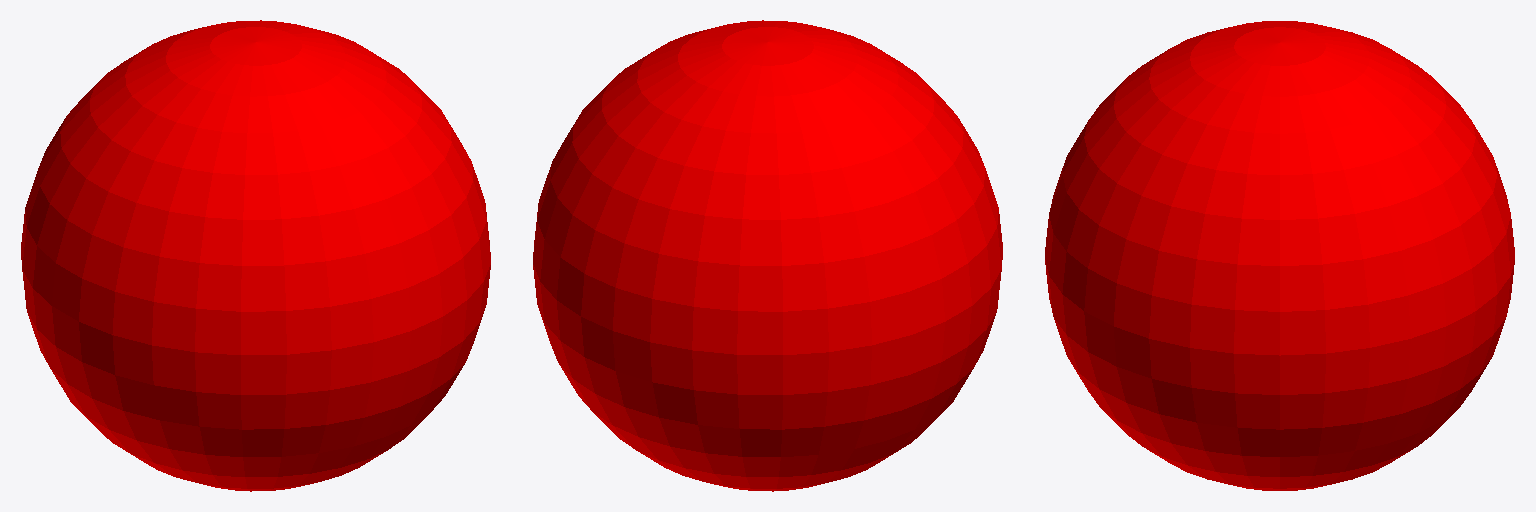
The robot description file, URDF, robot "iiwa14":
<?xml version="1.0" ?>
<!-- =================================================================================== -->
<!-- |    This document was autogenerated by xacro from iiwa14.urdf.xacro              | -->
<!-- |    EDITING THIS FILE BY HAND IS NOT RECOMMENDED                                 | -->
<!-- =================================================================================== -->
<!--|
    Copyright (C) 2019-2022 [author] and Systems Laboratory, EPFL, Switzerland
    Authors:  [author] (maintainer)
              [author]
              [author]
    email:    [email redacted]
              [email redacted]
              [email redacted]
    Other contributors:
              [author] ([email redacted])
              [author] ([email redacted])
    website:  lasa.epfl.ch

    This file is part of iiwa_ros.

    iiwa_ros is free software: you can redistribute it and/or modify
    it under the terms of the GNU General Public License as published by
    the Free Software Foundation, either version 3 of the License, or
    (at your option) any later version.

    iiwa_ros is distributed in the hope that it will be useful,
    but WITHOUT ANY WARRANTY; without even the implied warranty of
    MERCHANTABILITY or FITNESS FOR A PARTICULAR PURPOSE.  See the
    GNU General Public License for more details.

|-->
<robot name="iiwa14">
  <material name="Black">
    <color rgba="0.0 0.0 0.0 1.0"/>
  </material>
  <material name="Blue">
    <color rgba="0.0 0.0 0.8 1.0"/>
  </material>
  <material name="Green">
    <color rgba="0.0 0.8 0.0 1.0"/>
  </material>
  <material name="Grey">
    <color rgba="0.4 0.4 0.4 1.0"/>
  </material>
  <material name="Orange">
    <color rgba="1.0 0.4235294117647059 0.0392156862745098 1.0"/>
  </material>
  <material name="Brown">
    <color rgba="0.8705882352941177 0.8117647058823529 0.7647058823529411 1.0"/>
  </material>
  <material name="Red">
    <color rgba="0.8 0.0 0.0 1.0"/>
  </material>
  <material name="White">
    <color rgba="1.0 1.0 1.0 1.0"/>
  </material>
  <!-- Fix to world just for testing -->
  <link name="world"/>
  <!--joint between {parent} and link_0-->
  <joint name="world_iiwa_joint" type="fixed">
    <origin rpy="0 0 0" xyz="0 0 0"/>
    <parent link="world"/>
    <child link="iiwa_link_0"/>
  </joint>
  <link name="iiwa_link_0">
    <inertial>
      <origin rpy="0 0 0" xyz="-0.1 0 0.07"/>
      <mass value="5"/>
      <inertia ixx="0.05" ixy="0" ixz="0" iyy="0.06" iyz="0" izz="0.03"/>
    </inertial>
    <visual>
      <origin rpy="0 0 0" xyz="0 0 0"/>
      <geometry>
        <mesh filename="./meshes/iiwa14/link_0.stl"/>
      </geometry>
      <material name="Grey"/>
    </visual>
  </link>
  <!-- joint between link_0 and link_1 -->
  <joint name="joint_a1" type="revolute">
    <parent link="iiwa_link_0"/>
    <child link="iiwa_link_1"/>
    <origin rpy="0 0 0" xyz="0 0 0.1575"/>
    <axis xyz="0 0 1"/>
    <limit effort="320" lower="-2.9670597283903604" upper="2.9670597283903604" velocity="1.4835298641951802"/>
    <safety_controller k_position="100" k_velocity="10" soft_lower_limit="-2.8187067419708423" soft_upper_limit="2.8187067419708423"/>
    <dynamics damping="0.5"/>
  </joint>
  <link name="iiwa_link_1">
    <inertial>
      <origin rpy="0 0 0" xyz="0 -0.03 0.12"/>
      <mass value="4"/>
      <inertia ixx="0.1" ixy="0" ixz="0" iyy="0.09" iyz="0" izz="0.02"/>
    </inertial>
    <visual>
      <origin rpy="0 0 0" xyz="0 0 0"/>
      <geometry>
        <mesh filename="./meshes/iiwa14/link_1.stl"/>
      </geometry>
      <material name="Orange"/>
    </visual>
  </link>
  <!-- joint between link_1 and link_2 -->
  <joint name="joint_a2" type="revolute">
    <parent link="iiwa_link_1"/>
    <child link="iiwa_link_2"/>
    <origin rpy="1.5707963267948966   0 3.141592653589793" xyz="0 0 0.2025"/>
    <axis xyz="0 0 1"/>
    <limit effort="320" lower="-2.0943951023931953" upper="2.0943951023931953" velocity="1.4835298641951802"/>
    <safety_controller k_position="100" k_velocity="10" soft_lower_limit="-1.9896753472735356" soft_upper_limit="1.9896753472735356"/>
    <dynamics damping="0.5"/>
  </joint>
  <link name="iiwa_link_2">
    <inertial>
      <origin rpy="0 0 0" xyz="0.0003 0.059 0.042"/>
      <mass value="4"/>
      <inertia ixx="0.05" ixy="0" ixz="0" iyy="0.018" iyz="0" izz="0.044"/>
    </inertial>
    <visual>
      <origin rpy="0 0 0" xyz="0 0 0"/>
      <geometry>
        <mesh filename="./meshes/iiwa14/link_2.stl"/>
      </geometry>
      <material name="Orange"/>
    </visual>
  </link>
  <!-- joint between link_2 and link_3 -->
  <joint name="joint_a3" type="revolute">
    <parent link="iiwa_link_2"/>
    <child link="iiwa_link_3"/>
    <origin rpy="1.5707963267948966 0 3.141592653589793" xyz="0 0.2045 0"/>
    <axis xyz="0 0 1"/>
    <limit effort="176" lower="-2.9670597283903604" upper="2.9670597283903604" velocity="1.7453292519943295"/>
    <safety_controller k_position="100" k_velocity="10" soft_lower_limit="-2.8187067419708423" soft_upper_limit="2.8187067419708423"/>
    <dynamics damping="0.5"/>
  </joint>
  <link name="iiwa_link_3">
    <inertial>
      <origin rpy="0 0 0" xyz="0 0.03 0.13"/>
      <mass value="3"/>
      <inertia ixx="0.08" ixy="0" ixz="0" iyy="0.075" iyz="0" izz="0.01"/>
    </inertial>
    <visual>
      <origin rpy="0 0 0" xyz="0 0 0"/>
      <geometry>
        <mesh filename="./meshes/iiwa14/link_3.stl"/>
      </geometry>
      <material name="Orange"/>
    </visual>
  </link>
  <!-- joint between link_3 and link_4 -->
  <joint name="joint_a4" type="revolute">
    <parent link="iiwa_link_3"/>
    <child link="iiwa_link_4"/>
    <origin rpy="1.5707963267948966 0 0" xyz="0 0 0.2155"/>
    <axis xyz="0 0 1"/>
    <limit effort="176" lower="-2.0943951023931953" upper="2.0943951023931953" velocity="1.3089969389957472"/>
    <safety_controller k_position="100" k_velocity="10" soft_lower_limit="-1.9896753472735356" soft_upper_limit="1.9896753472735356"/>
    <dynamics damping="0.5"/>
  </joint>
  <link name="iiwa_link_4">
    <inertial>
      <origin rpy="0 0 0" xyz="0 0.067 0.034"/>
      <mass value="2.7"/>
      <inertia ixx="0.03" ixy="0" ixz="0" iyy="0.01" iyz="0" izz="0.029"/>
    </inertial>
    <visual>
      <origin rpy="0 0 0" xyz="0 0 0"/>
      <geometry>
        <mesh filename="./meshes/iiwa14/link_4.stl"/>
      </geometry>
      <material name="Orange"/>
    </visual>
  </link>
  <!-- joint between link_4 and link_5 -->
  <joint name="joint_a5" type="revolute">
    <parent link="iiwa_link_4"/>
    <child link="iiwa_link_5"/>
    <origin rpy="-1.5707963267948966 3.141592653589793 0" xyz="0 0.1845 0"/>
    <axis xyz="0 0 1"/>
    <limit effort="110" lower="-2.9670597283903604" upper="2.9670597283903604" velocity="2.2689280275926285"/>
    <safety_controller k_position="100" k_velocity="10" soft_lower_limit="-2.8187067419708423" soft_upper_limit="2.8187067419708423"/>
    <dynamics damping="0.5"/>
  </joint>
  <link name="iiwa_link_5">
    <inertial>
      <origin rpy="0 0 0" xyz="0.0001 0.021 0.076"/>
      <mass value="1.7"/>
      <inertia ixx="0.02" ixy="0" ixz="0" iyy="0.018" iyz="0" izz="0.005"/>
    </inertial>
    <visual>
      <origin rpy="0 0 0" xyz="0 0 0"/>
      <geometry>
        <mesh filename="./meshes/iiwa14/link_5.stl"/>
      </geometry>
      <material name="Orange"/>
    </visual>
  </link>
  <!-- joint between link_5 and link_6 -->
  <joint name="joint_a6" type="revolute">
    <parent link="iiwa_link_5"/>
    <child link="iiwa_link_6"/>
    <origin rpy="1.5707963267948966 0 0" xyz="0 0 0.2155"/>
    <axis xyz="0 0 1"/>
    <limit effort="40" lower="-2.0943951023931953" upper="2.0943951023931953" velocity="2.356194490192345"/>
    <safety_controller k_position="100" k_velocity="10" soft_lower_limit="-1.9896753472735356" soft_upper_limit="1.9896753472735356"/>
    <dynamics damping="0.5"/>
  </joint>
  <link name="iiwa_link_6">
    <inertial>
      <origin rpy="0 0 0" xyz="0 0.0006 0.0004"/>
      <mass value="1.8"/>
      <inertia ixx="0.005" ixy="0" ixz="0" iyy="0.0036" iyz="0" izz="0.0047"/>
    </inertial>
    <visual>
      <origin rpy="0 0 0" xyz="0 0 0"/>
      <geometry>
        <mesh filename="./meshes/iiwa14/link_6.stl"/>
      </geometry>
      <material name="Orange"/>
    </visual>
  </link>
  <!-- joint between link_6 and link_7 -->
  <joint name="joint_a7" type="revolute">
    <parent link="iiwa_link_6"/>
    <child link="iiwa_link_7"/>
    <origin rpy="-1.5707963267948966 3.141592653589793 0" xyz="0 0.081 0"/>
    <axis xyz="0 0 1"/>
    <limit effort="40" lower="-3.0543261909900763" upper="3.0543261909900763" velocity="2.356194490192345"/>
    <safety_controller k_position="100" k_velocity="10" soft_lower_limit="-2.901609881440573" soft_upper_limit="2.901609881440573"/>
    <dynamics damping="0.5"/>
  </joint>
  <link name="iiwa_link_7">
    <inertial>
      <origin rpy="0 0 0" xyz="0 0 0.02"/>
      <mass value="0.3"/>
      <inertia ixx="0.001" ixy="0" ixz="0" iyy="0.001" iyz="0" izz="0.001"/>
    </inertial>
    <visual>
      <origin rpy="0 0 0" xyz="0 0 0"/>
      <geometry>
        <mesh filename="./meshes/iiwa14/link_7.stl"/>
      </geometry>
      <material name="Grey"/>
    </visual>
  </link>
  <joint name="iiwa_joint_ee" type="fixed">
    <parent link="iiwa_link_7"/>
    <child link="iiwa_link_ee"/>
    <origin rpy="0 0 0" xyz="0 0 0.045"/>
  </joint>
  <link name="iiwa_link_ee">
    <inertial>
      <origin rpy="0 0 0" xyz="0 0 0"/>
      <mass value="1e-6"/>
      <inertia ixx="1" ixy="0" ixz="0" iyy="1" iyz="0" izz="1"/>
    </inertial>
  </link>
  <link name="ball_link">
    <visual>
      <material name="red">
        <color rgba="1 0 0 1"/>
      </material>

      <geometry>
        <sphere radius="0.005"/>
      </geometry>
    </visual>
  </link>
  <joint name="ball_joint" type="fixed">
    <origin rpy="0 0 0" xyz="0 0 0.03"/>
    <!--origin rpy="0 0 0" xyz="0 0 0.1034"/-->
    <parent link="iiwa_link_ee"/>
    <child link="ball_link"/>
  </joint>
  <!-- Load Gazebo lib and set the robot namespace -->
</robot>

--- Facts derived from the render (not from the file) ---
The picture shows the robot from 3 angles, left to right: view 1: azimuth 30°, elevation 25°; view 2: azimuth 150°, elevation 25°; view 3: azimuth 270°, elevation 25°; orthographic projection.
Robot: iiwa14 — 11 links, 10 joints (7 revolute, 3 fixed); root link world; default pose: every joint at zero.
Visible links, largest first — view 1: ball_link; view 2: ball_link; view 3: ball_link.
Link boxes in pixels (x1,y1,x2,y2): ball_link: (21, 20, 490, 491); ball_link: (533, 20, 1002, 491); ball_link: (1045, 21, 1514, 490).
Bounding box of the posed robot: 0.01 × 0.01 × 0.01 m (x, y, z).
Meshes: 8 distinct files referenced, 0 mesh visuals loaded (none loaded); not drawn: 8 (reference not matched to a file when rendering).